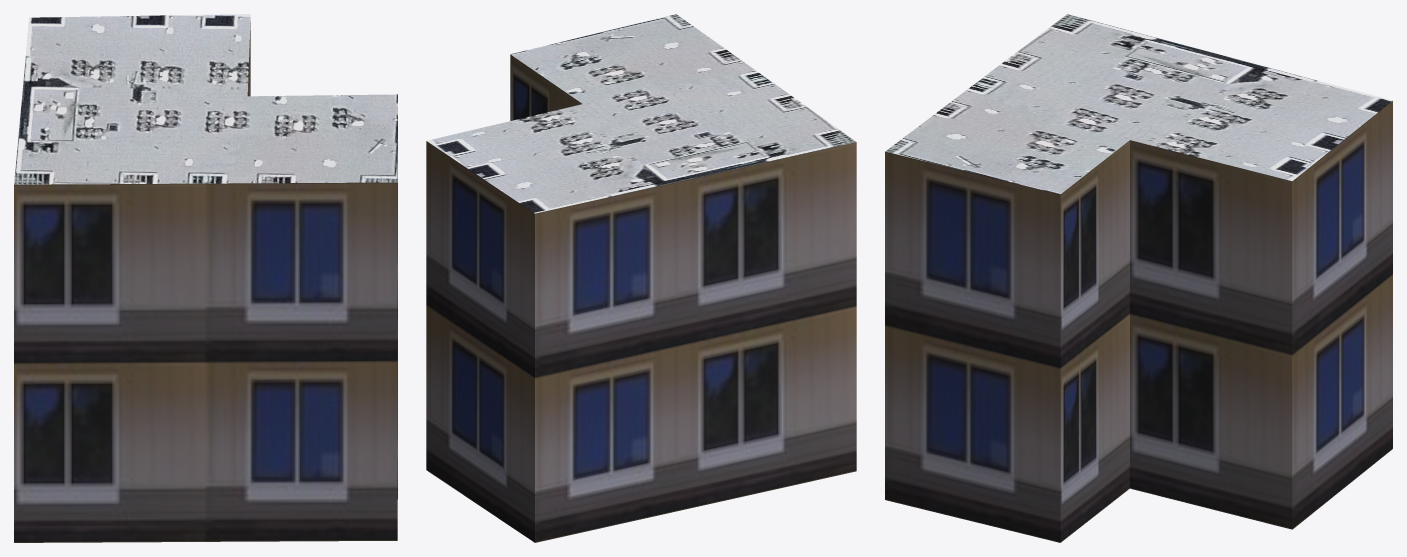
File: ResTex__4425.fbx
3 views of the same model, side by side, from view 1: azimuth 30°, elevation 25°; view 2: azimuth 150°, elevation 25°; view 3: azimuth 270°, elevation 25° (orthographic). The views are drawn at different scales.
Visible parts, largest first — view 1: CityEngineMaterial_5_m, CityEngineMaterial_4_m; view 2: CityEngineMaterial_5_m, CityEngineMaterial_4_m; view 3: CityEngineMaterial_5_m, CityEngineMaterial_4_m.
Boxes of the visible parts, box(x1,y1,x2,y2) form: CityEngineMaterial_5_m: box(14, 22, 397, 542); CityEngineMaterial_4_m: box(14, 14, 397, 184); CityEngineMaterial_5_m: box(426, 54, 856, 542); CityEngineMaterial_4_m: box(426, 14, 855, 213); CityEngineMaterial_5_m: box(885, 101, 1392, 542); CityEngineMaterial_4_m: box(885, 14, 1392, 194).
Bounding box in the file's own units: 6.67 × 6 × 7.92.
Materials: 2 (2 with a texture image).
